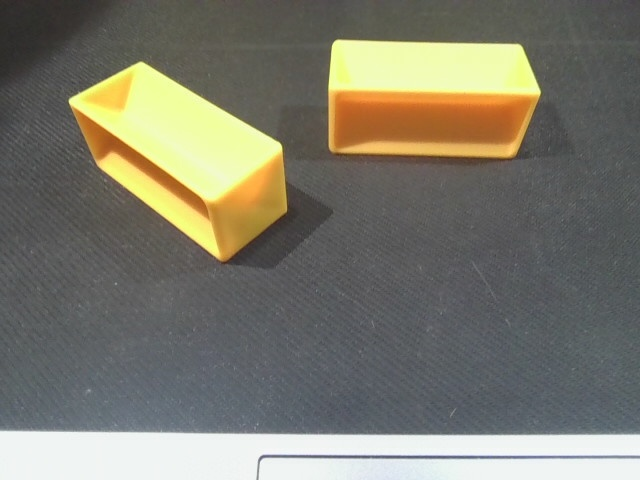YellowSample: (63, 60, 296, 263), (323, 31, 542, 169)
